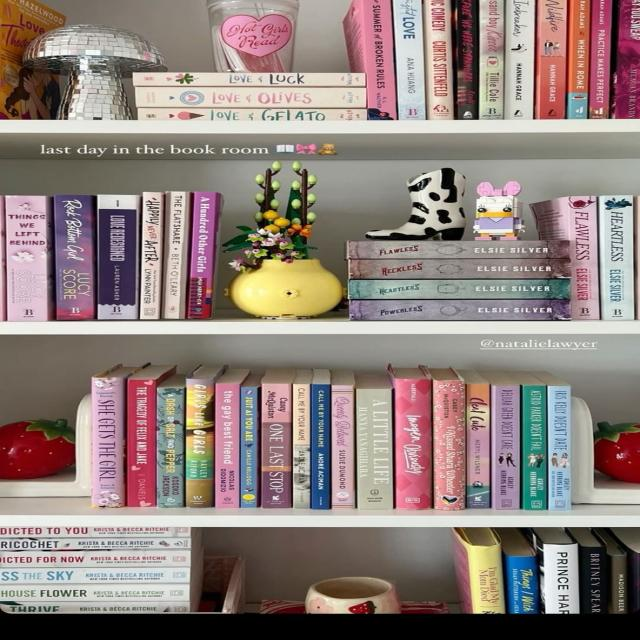book: (7, 196, 48, 321), (97, 195, 137, 319), (395, 379, 432, 509), (56, 196, 94, 319), (135, 87, 365, 107), (433, 381, 467, 511), (350, 300, 570, 320), (600, 195, 635, 319), (348, 280, 571, 299), (566, 196, 600, 320), (392, 0, 427, 120), (362, 0, 397, 120), (357, 389, 392, 509), (93, 377, 124, 507), (348, 240, 570, 258), (350, 260, 570, 278), (186, 191, 216, 320), (262, 383, 292, 508), (536, 0, 567, 119), (162, 191, 190, 319), (505, 0, 535, 119), (127, 381, 155, 506), (426, 0, 454, 120), (187, 379, 213, 508), (133, 72, 364, 86), (494, 386, 520, 509), (614, 0, 640, 119), (466, 384, 490, 508), (332, 385, 356, 509), (479, 0, 504, 119), (158, 388, 182, 508), (567, 0, 591, 119), (548, 386, 571, 510), (217, 384, 240, 508), (0, 585, 188, 600), (139, 192, 161, 320), (524, 386, 546, 510), (0, 552, 189, 566), (590, 0, 612, 120), (457, 0, 478, 120), (137, 109, 366, 120), (1, 569, 190, 582), (311, 384, 330, 509), (293, 384, 309, 508), (241, 388, 257, 508), (0, 602, 190, 612), (1, 527, 190, 537), (2, 538, 190, 548)
